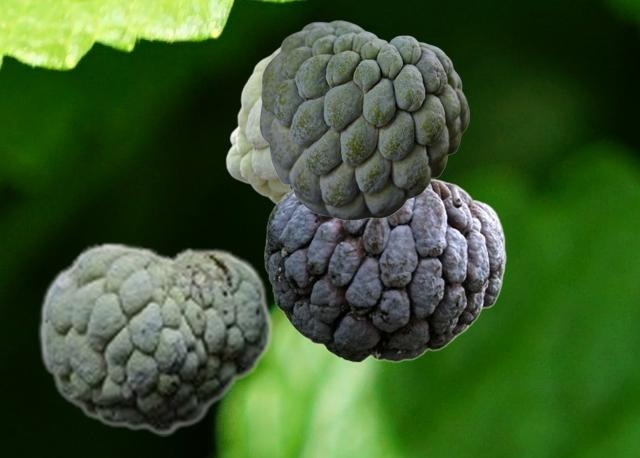atis: (38, 241, 272, 435), (264, 177, 505, 361), (259, 20, 468, 219), (225, 46, 288, 203)
